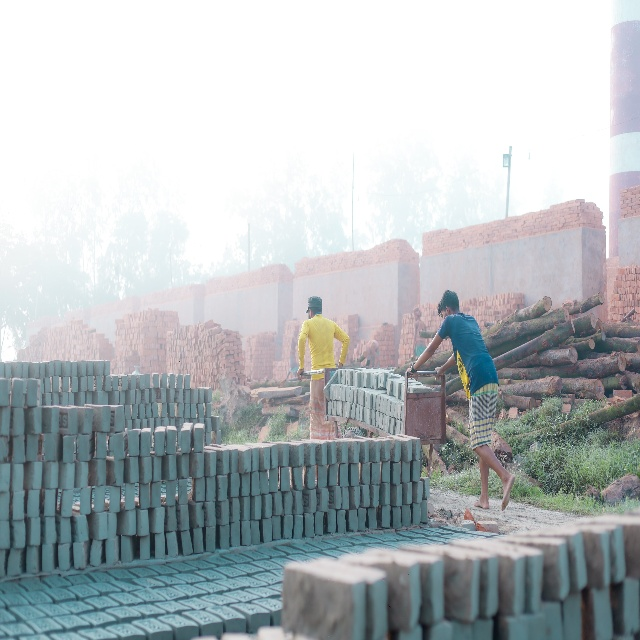Sin_guantes: (406, 366, 419, 382), (434, 365, 442, 382), (296, 366, 304, 381)
